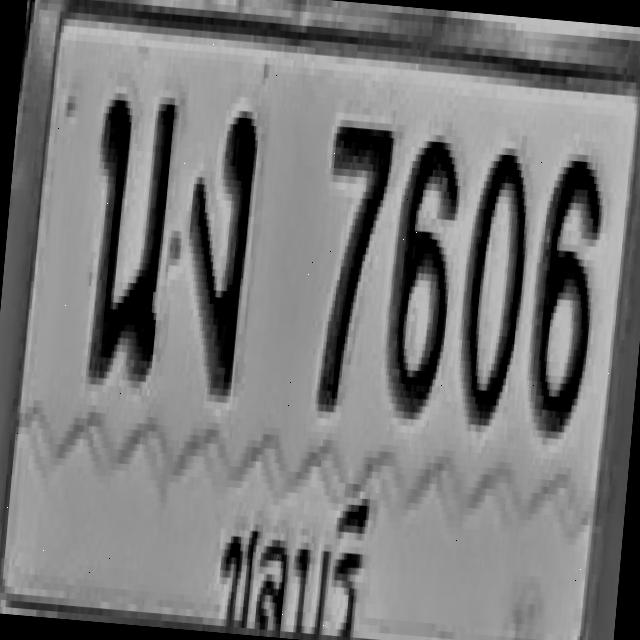0: (452, 138, 534, 428)
16NgorNgu: (176, 100, 260, 397)
34NorNu: (79, 85, 180, 382)
6: (525, 152, 606, 434), (382, 132, 462, 414)
7: (310, 119, 394, 415)
Chonburi: (205, 471, 375, 640)
